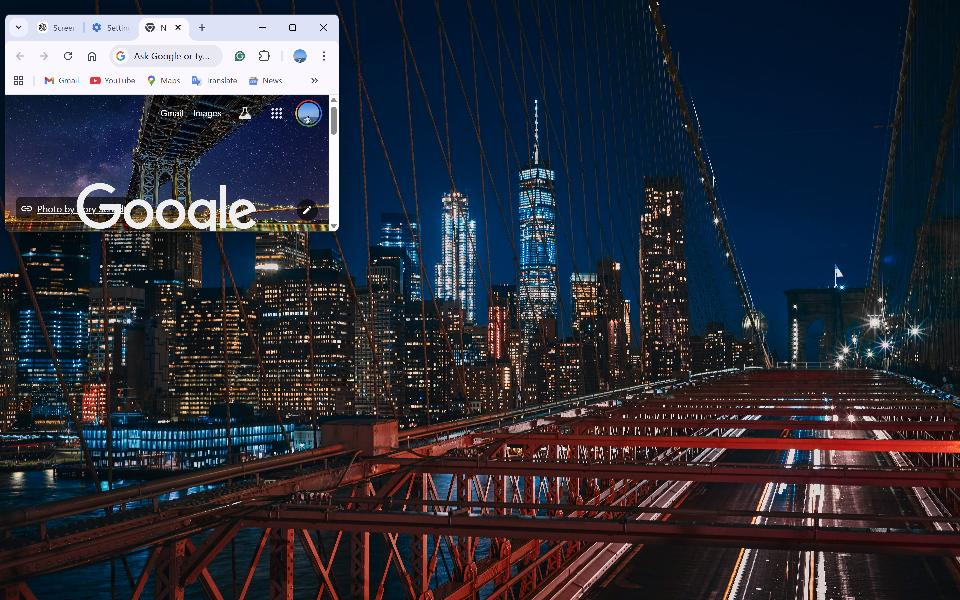close_button: (310, 18, 336, 40)
maximize_button: (282, 17, 305, 40)
minimize_button: (249, 16, 276, 40)
